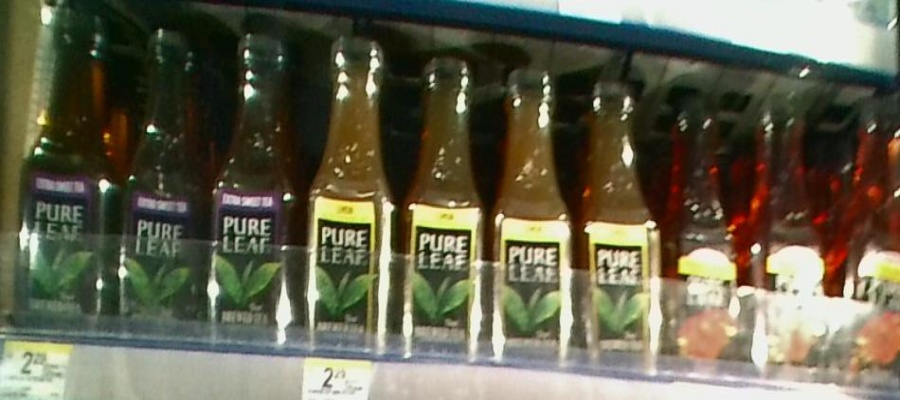bottle: (301, 20, 395, 350), (17, 6, 112, 329), (209, 17, 296, 353), (118, 11, 205, 341), (398, 42, 487, 359), (490, 49, 579, 366), (740, 96, 830, 381), (582, 76, 663, 360), (666, 92, 735, 372), (836, 95, 900, 384)
